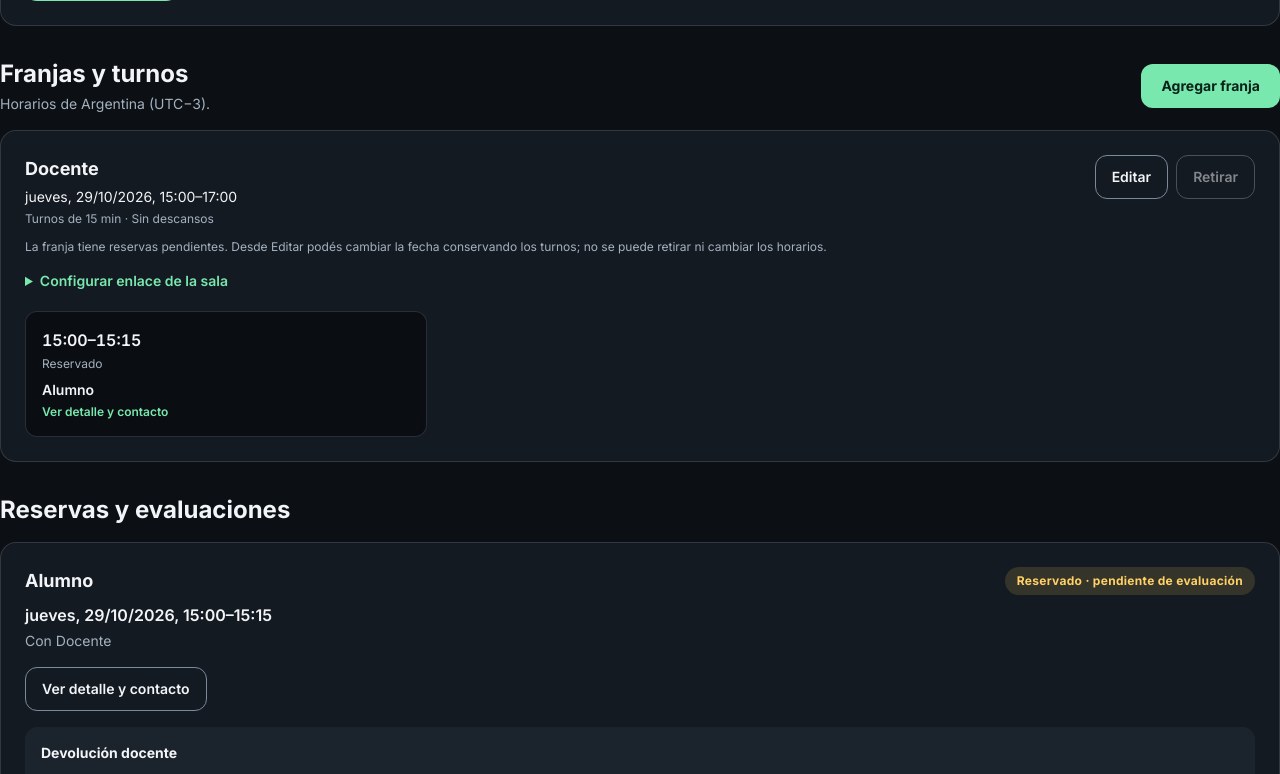
Test: resultado y notas privadas del turno › abre el alumno y sus contactos desde la tarjeta del turno reservado y permite cerrar
(page scrolled)
Click the button with aria-label "Ver detalle del turno de Alumno" at (65, 340), box [26,312,426,436]
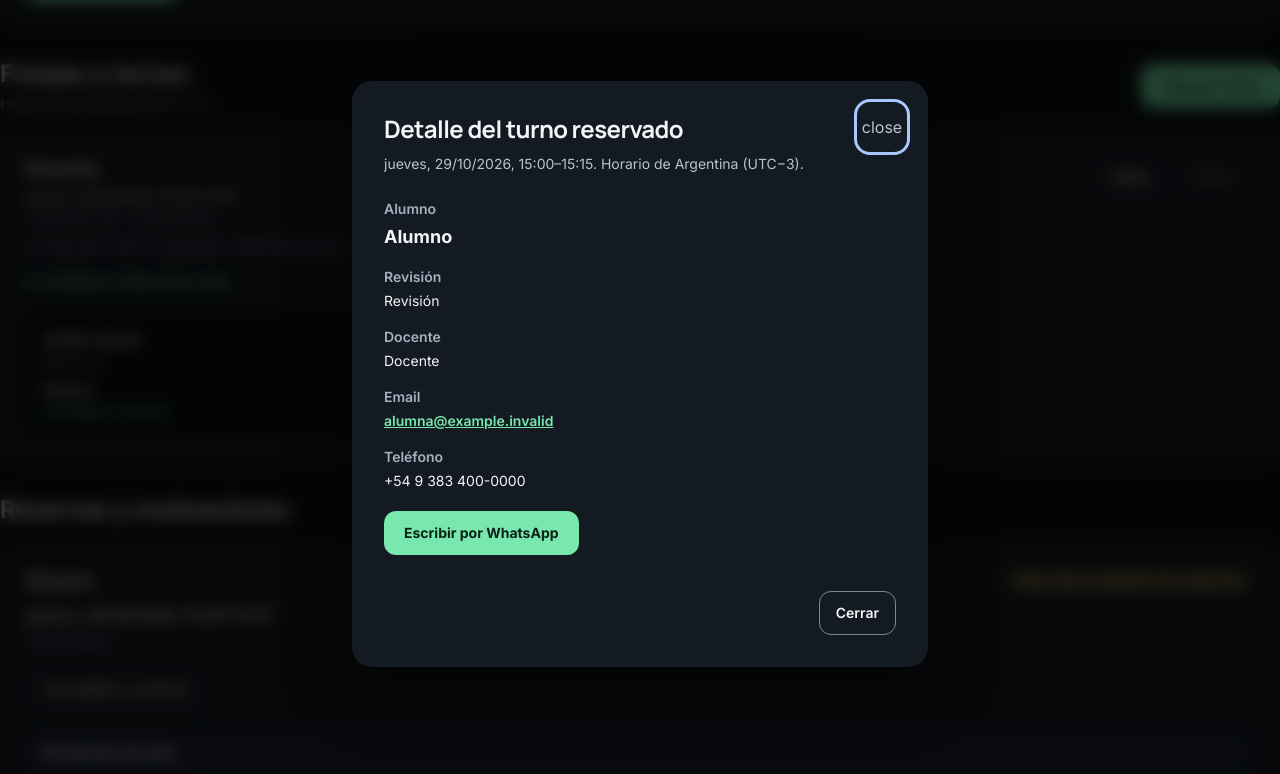
Now the 2nd text "Alumno" is shown, box [384,226,452,247]
Now the text "+54 9 383 400-0000" is shown, box [384,472,526,489]
Click the button "Cerrar" at (857, 613), box [819,591,896,635]
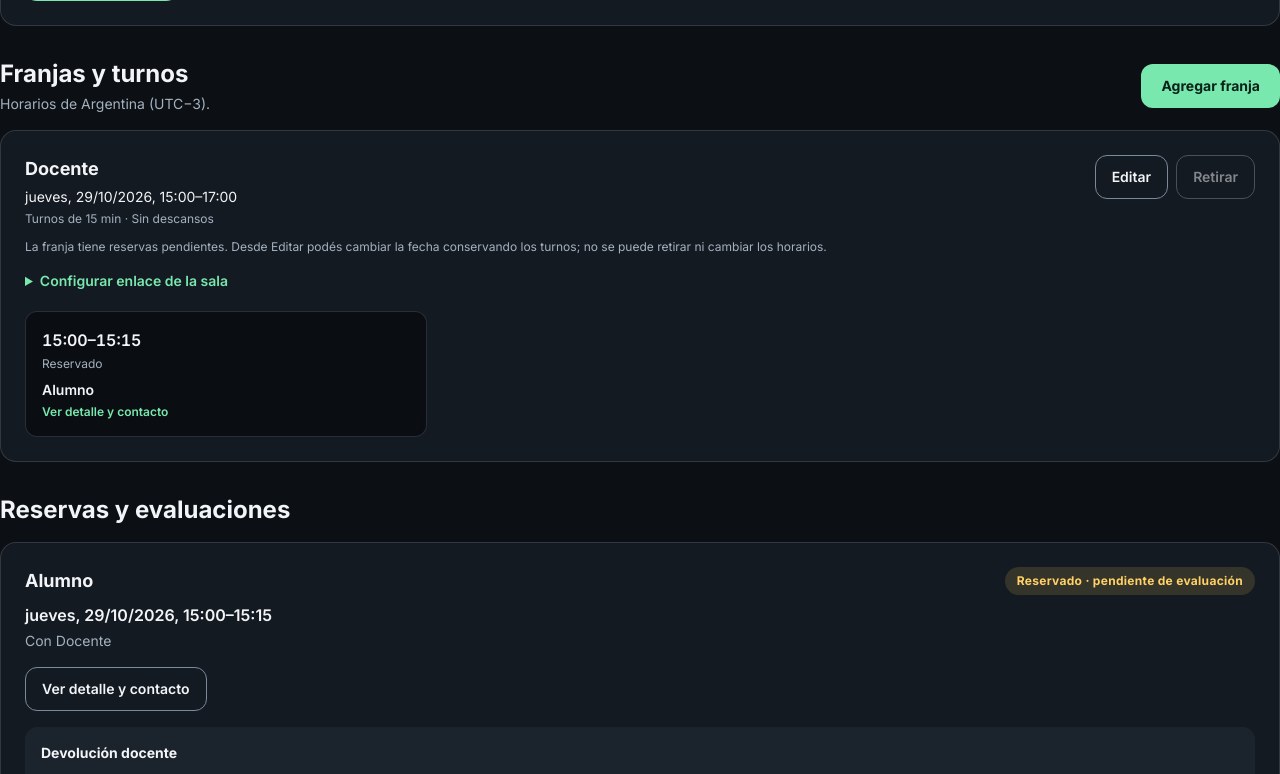
Now the dialog is gone
